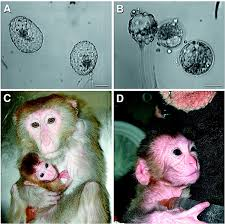monkey: (7, 103, 94, 183), (131, 105, 206, 191), (4, 148, 68, 198)
